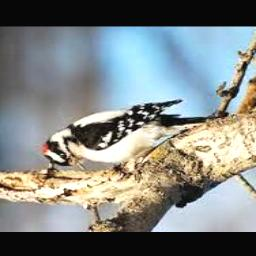Woodpecker: (44, 100, 229, 172)
